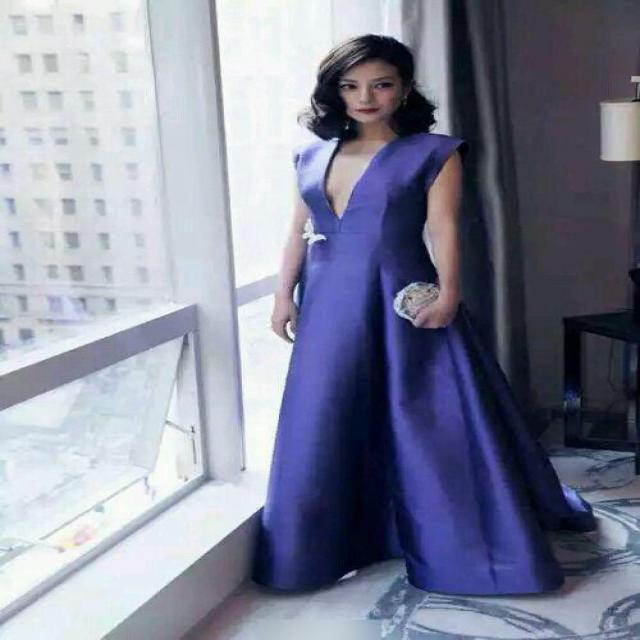Manusia: (252, 28, 610, 610)
